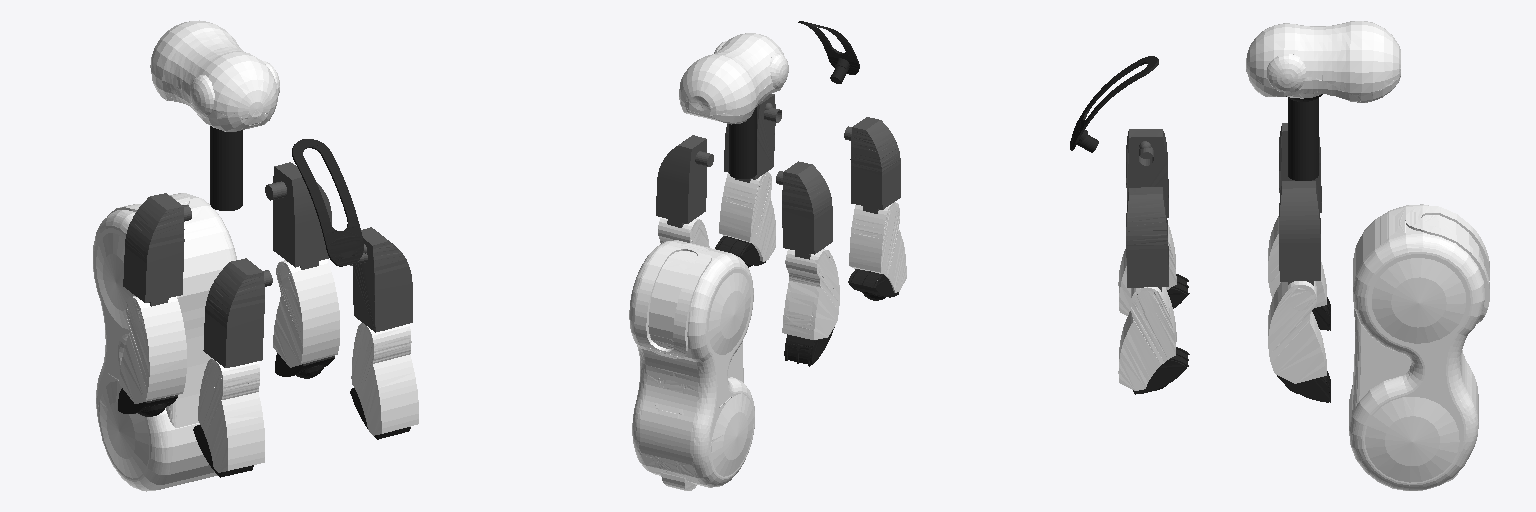
--- Facts derived from the render (not from the file) ---
Views: 3 orthographic renders of the robot side by side, from view 1: azimuth 30°, elevation 25°; view 2: azimuth 150°, elevation 25°; view 3: azimuth 270°, elevation 25°.
Model Aibo with 22 links and 21 joints (17 revolute, 4 fixed), rooted at base_link, posed all joints at 0 but 1 set to mid-range because 0 is outside their limits (tailTilt = 0.565).
Links seen in each view (by area): view 1: base_link, head, LB_down_leg, RB_down_leg, LF_down_leg, RF_down_leg, LF_up_leg_rot_x, LB_up_leg_rot_x, RB_up_leg_rot_x, RF_up_leg_rot_x, tail2, neck_link (+3 smaller); view 2: base_link, head, LF_down_leg, LF_up_leg_rot_x, LB_up_leg_rot_x, RF_up_leg_rot_x, LB_down_leg, RB_down_leg, RB_up_leg_rot_x, neck_link, tail2, LB_paw (+3 smaller); view 3: base_link, head, RF_down_leg, RB_down_leg, RF_up_leg_rot_x, RB_up_leg_rot_x, neck_link, LB_up_leg_rot_x, tail2, LF_down_leg, RB_paw, LB_down_leg (+2 smaller).
Boxes of the visible links, left/top/right/bottom form: base_link: left=93, top=193, right=236, bottom=491; head: left=150, top=20, right=279, bottom=131; LB_down_leg: left=198, top=359, right=264, bottom=472; RB_down_leg: left=351, top=323, right=418, bottom=435; LF_down_leg: left=119, top=296, right=186, bottom=403; RF_down_leg: left=273, top=259, right=339, bottom=367; LF_up_leg_rot_x: left=123, top=193, right=191, bottom=306; LB_up_leg_rot_x: left=203, top=258, right=272, bottom=367; RB_up_leg_rot_x: left=350, top=227, right=412, bottom=332; RF_up_leg_rot_x: left=265, top=162, right=331, bottom=269; tail2: left=292, top=139, right=363, bottom=266; neck_link: left=210, top=126, right=242, bottom=210; base_link: left=629, top=240, right=754, bottom=490; head: left=679, top=33, right=788, bottom=124; LF_down_leg: left=782, top=249, right=839, bottom=339; LF_up_leg_rot_x: left=776, top=161, right=832, bottom=259; LB_up_leg_rot_x: left=844, top=117, right=900, bottom=213; RF_up_leg_rot_x: left=656, top=135, right=713, bottom=227; LB_down_leg: left=849, top=202, right=906, bottom=292; RB_down_leg: left=719, top=172, right=775, bottom=261; RB_up_leg_rot_x: left=724, top=94, right=781, bottom=182; neck_link: left=729, top=107, right=756, bottom=178; tail2: left=798, top=21, right=859, bottom=74; LB_paw: left=848, top=269, right=898, bottom=300; base_link: left=1349, top=204, right=1489, bottom=490; head: left=1246, top=21, right=1400, bottom=102; RF_down_leg: left=1268, top=281, right=1326, bottom=383; RB_down_leg: left=1118, top=287, right=1176, bottom=390; RF_up_leg_rot_x: left=1279, top=181, right=1320, bottom=285; RB_up_leg_rot_x: left=1126, top=187, right=1168, bottom=294; neck_link: left=1288, top=98, right=1318, bottom=180; LB_up_leg_rot_x: left=1126, top=129, right=1168, bottom=217; tail2: left=1070, top=56, right=1158, bottom=150; LF_down_leg: left=1268, top=216, right=1326, bottom=307; RB_paw: left=1133, top=347, right=1189, bottom=394; LB_down_leg: left=1118, top=225, right=1176, bottom=315.
Bounding box of the posed robot: 0.1776 × 0.353 × 0.4194 m (x, y, z).
15 mesh visuals loaded from 15 distinct referenced files (15 binary STL).

URDF robot description (Aibo):
<?xml version="1.0"?>
<robot name="Aibo">

  <!-- WARNING: MASS and INERTIA are not corrects (they are too big!) -->
  <!-- check Aibo.urdf on rds.theconstructism.com -->
  <!-- Weights: 2.2kg (ERS-1000), 1.5kg (ERS-220), 1.65kg () -->

  <link name="base_link" >
    <inertial>
      <!--origin xyz="0.002775 -0.000984 1.226576"/-->
      <mass value="0.613"/> <!-- volume = 0.811633 -->
      <inertia ixx='0.002475011189860075' ixy='0' ixz='0' iyy='0.007506640782378954' iyz='0' izz='0.007113701431115992'/>
      <!--inertia ixx="0.063663" ixy="0.000007" ixz="0.006725" iyy="0.241987" iyz="0.0" izz="0.231997"/--> <!-- volume inertia -->
      <!--inertia ixx="0.00081259581" ixy="8.93481413e-8" ixz="0.00008583803" iyy="0.00308872695" iyz="0.0" izz="0.00296121439"/--> <!-- previous inertia (the one above) divided by volume times mass times scale**2 -->
    </inertial>
    <collision name="geom">
      <!--origin xyz="0 0 0" rpy="0 0 -1.5707"/>
      <geometry>
        <cylinder radius="0.055" length="0.240"/>
      </geometry-->
      <origin xyz="0 0 0" rpy="0 0 -1.5707"/>
      <geometry>
        <mesh filename="meshes/body1.stl" scale="0.13 0.13 0.13" />
      </geometry>
    </collision>
    <visual name="visual">
      <origin xyz="0 0 0" rpy="0 0 -1.5707"/>
      <geometry>
        <mesh filename="meshes/body1.stl" scale="0.13 0.13 0.13" />
      </geometry>
      <material name="white">
        <color rgba="1 1 1 1"/>
      </material>
      <origin xyz="0.0 0 0" rpy="0 1.5707 1.5707"/>
    </visual>
  </link>

  <link name="RF_up_leg_rot_y" > <!-- shoulder -->
    <collision name="geom">
      <origin xyz="0 0 0" rpy="0 0 -1.5707"/>
      <geometry>
        <sphere radius="0.005"/>
      </geometry>
    </collision>
    <visual name="visual">
      <origin xyz="0 0 0" rpy="0 0 -1.5707"/>
      <geometry>
        <sphere radius="0.005"/>
      </geometry>
      <material name="grey">
        <color rgba="0.4 0.4 0.4 1"/>
      </material>
    </visual>
    <inertial>
      <origin xyz="-0.001888 -0.002933 0.008598" rpy="0 0 0"/>
      <mass value="0.05"/>
      <inertia ixx="4.442444469634999e-05" ixy="0.0" ixz="0.0" iyy="8.199685180759998e-05" iyz="0.0" izz="3.9338485833950003e-05" />
    </inertial>
  </link>

  <link name="RF_up_leg_rot_x" > <!-- RF_leg1 -->
    <collision name="geom">
      <!--origin xyz="0 0 0" rpy="0 0 -1.5707"/>
      <geometry>
        <mesh filename="meshes/RFup.stl" scale="0.13 0.13 0.13" />
      </geometry-->
      <origin xyz="-0.05 -0.061 -0.162" rpy="0 0 -1.5707"/>
      <geometry>
        <mesh filename="meshes/RFup.stl" scale="0.13 0.13 0.13" />
      </geometry>
    </collision>
    <visual name="visual">
      <origin xyz="-0.05 -0.061 -0.162" rpy="0 0 -1.5707"/>
      <geometry>
        <mesh filename="meshes/RFup.stl" scale="0.13 0.13 0.13" />
      </geometry>
      <material name="grey"/>
    </visual>
    <inertial>
      <origin xyz="0.000343 -0.001992 -0.011436" rpy="0 0 0"/>
      <mass value="0.073"/>
      <inertia ixx="0.00011969654852187499" ixy="0.0" ixz="0.0" iyy="0.00011794468285297098" iyz="0.0" izz="2.9366620594846e-05" />
    </inertial>
  </link>

  <link name="RF_down_leg" > <!-- RF_leg2 -->
    <collision name="geom">
      <!--origin xyz="0 0 -0.0275" rpy="0 0 0"/>
      <geometry>
        <cylinder radius="0.020" length="0.080"/>
      </geometry-->
      <origin xyz="-0.072 -0.061 -0.085" rpy="0 0 -1.5707"/>
      <geometry>
        <mesh filename="meshes/RFdown.stl" scale="0.13 0.13 0.13" />
      </geometry>
    </collision>
    <visual name="visual">
      <origin xyz="-0.072 -0.061 -0.085" rpy="0 0 -1.5707"/>
      <geometry>
        <mesh filename="meshes/RFdown.stl" scale="0.13 0.13 0.13" />
      </geometry>
      <material name="white"/>
    </visual>
    <inertial>
      <origin xyz="-0.004809 0.000013 0.008158" rpy="0 0 0"/>
      <mass value="0.073"/>
      <inertia ixx="0.00011969654852187499" ixy="0.0" ixz="0.0" iyy="0.00011794468285297098" iyz="0.0" izz="2.9366620594846e-05" />
    </inertial>
  </link>

  <joint type="revolute" name="legRF1">
    <origin xyz="0.05 0.061 0.162" rpy="0 0 0"/>
    <limit effort="1000.0" lower="-2.09" upper="2.36" velocity="0.5"/> 
    <axis xyz="1 0 0"/>
    <parent link="base_link"/>
    <child link="RF_up_leg_rot_y"/>
    <!--dynamics damping="10000.0" friction="10000.0"/--> <!-- this causes problems in pybullet -->
    <safety_controller k_velocity="10" k_position="15" soft_lower_limit="-2.0" soft_upper_limit="0.5" />
  </joint>

  <joint type="revolute" name="legRF2">
    <origin xyz="0 0 0" rpy="0 0 0"/>
    <limit effort="1000.0" lower="-1.58825" upper="0.15708" velocity="0.5"/> 
    <axis xyz="0 -1 0"/>
    <parent link="RF_up_leg_rot_y"/>
    <child link="RF_up_leg_rot_x"/>
    <!--dynamics damping="10000.0" friction="10000.0"/--> <!-- this causes problems in pybullet -->
    <safety_controller k_velocity="10" k_position="15" soft_lower_limit="-2.0" soft_upper_limit="0.5" />
  </joint>

  <joint type="revolute" name="legRF3">
    <origin xyz="0.022 0 -0.077" rpy="-0.51 0 0"/>
    <limit effort="1000.0" lower="-0.506" upper="2.0768" velocity="0.5"/>
    <axis xyz="1 0 0"/>
    <parent link="RF_up_leg_rot_x"/>
    <child link="RF_down_leg"/>
    <!--dynamics damping="10000.0" friction="10000.0"/--> <!-- this causes problems in pybullet -->
    <safety_controller k_velocity="10" k_position="15" soft_lower_limit="-2.0" soft_upper_limit="0.5" />
  </joint>

  <link name="LF_up_leg_rot_y" >
    <collision name="geom">
      <origin xyz="0 0 0" rpy="0 0 0"/>
      <geometry>
        <sphere radius="0.005"/>
      </geometry>
    </collision>
    <visual name="visual">
      <origin xyz="0 0 0" rpy="0 0 0"/>
      <geometry>
        <sphere radius="0.005"/>
      </geometry>
      <material name="grey"></material>
    </visual>
    <inertial>
      <origin xyz="-0.001888 0.002933 0.008598" rpy="0 0 0"/>
      <mass value="0.05"/>
      <inertia ixx="4.07077236743e-05" ixy="0.0" ixz="0.0" iyy="8.407799796175e-05" iyz="0.0" izz="4.5252994171749996e-05" />
    </inertial>
  </link>

  <link name="LF_up_leg_rot_x" >
    <collision name="geom">
      <!--origin xyz="0 0 -0.0275" rpy="0 0 0"/>
      <geometry>
        <cylinder radius="0.020" length="0.075"/>
      </geometry-->
      <origin xyz="0.05 -0.061 -0.162" rpy="0 0 -1.5707"/>
      <geometry>
        <mesh filename="meshes/LFup.stl" scale="0.13 0.13 0.13" />
      </geometry>
    </collision>
    <visual name="visual">
      <origin xyz="0.05 -0.061 -0.162" rpy="0 0 -1.5707"/>
      <geometry>
        <mesh filename="meshes/LFup.stl" scale="0.13 0.13 0.13" />
      </geometry>
      <material name="grey"/>
    </visual>
    <inertial>
      <origin xyz="0.000343 0.001992 -0.011436" rpy="0 0 0"/>
      <mass value="0.073"/>
      <inertia ixx="0.00011566170518423601" ixy="0.0" ixz="0.0" iyy="0.00011431816699501901" iyz="0.0" izz="2.8949038259255004e-05" />
    </inertial>
  </link>

  <link name="LF_down_leg" >
    <collision name="geom">
      <!--origin xyz="0 0 0" rpy="0 0 0"/>
      <geometry>
        <cylinder radius="0.020" length="0.080"/>
      </geometry-->
      <origin xyz="0.072 -0.061 -0.085" rpy="0 0 -1.5707"/>
      <geometry>
        <mesh filename="meshes/LFdown.stl" scale="0.13 0.13 0.13" />
      </geometry>
    </collision>
    <visual name="visual">
      <origin xyz="0.072 -0.061 -0.085" rpy="0 0 -1.5707"/>
      <geometry>
        <mesh filename="meshes/LFdown.stl" scale="0.13 0.13 0.13" />
      </geometry>
      <material name="white"/>
    </visual>
    <inertial>
      <origin xyz="-0.004809 -0.000013 0.008158" rpy="0 0 0"/>
      <mass value="0.073"/>
      <inertia ixx="0.00011969654852187499" ixy="0.0" ixz="0.0" iyy="0.00011794468285297098" iyz="0.0" izz="2.9366620594846e-05" />
    </inertial>
  </link>

  <joint type="revolute" name="legLF1">
    <origin xyz="-0.05 0.061 0.162" rpy="0 0 0"/>
    <limit effort="1000.0" lower="-2.094" upper="2.36" velocity="0.5"/> 
    <axis xyz="1 0 0"/>
    <parent link="base_link"/>
    <child link="LF_up_leg_rot_y"/>
    <!--dynamics damping="10000.0" friction="10000.0"/--> <!-- this causes problems in pybullet -->
    <safety_controller k_velocity="10" k_position="15" soft_lower_limit="-2.0" soft_upper_limit="0.5" />
  </joint>

  <joint type="revolute" name="legLF2">
    <origin xyz="0 0 0" rpy="0 0 0"/>
    <limit effort="1000.0" lower="-0.15708" upper="1.58825" velocity="0.5"/> 
    <axis xyz="0 1 0"/>
    <parent link="LF_up_leg_rot_y"/>
    <child link="LF_up_leg_rot_x"/>
    <!--dynamics damping="10000.0" friction="10000.0"/--> <!-- this causes problems in pybullet -->
    <safety_controller k_velocity="10" k_position="15" soft_lower_limit="-2.0" soft_upper_limit="0.5" />
  </joint>

  <joint type="revolute" name="legLF3">
    <origin xyz="-0.022 0 -0.077" rpy="-0.51 0 0"/>
    <limit effort="1000.0" lower="-0.506" upper="2.0768" velocity="0.5"/>
    <axis xyz="1 0 0"/>
    <parent link="LF_up_leg_rot_x"/>
    <child link="LF_down_leg"/>
    <!--dynamics damping="10000.0" friction="10000.0"/--> <!-- this causes problems in pybullet -->
    <safety_controller k_velocity="10" k_position="15" soft_lower_limit="-2.0" soft_upper_limit="0.5" />
  </joint>

  <link name="RB_up_leg_rot_y" >
    <collision name="geom">
      <origin xyz="0 0 0" rpy="0 0 -1.5707"/>
      <geometry>
        <sphere radius="0.005"/>
      </geometry>
    </collision>
    <visual name="visual">
      <origin xyz="0 0 0" rpy="0 0 -1.5707"/>
      <geometry>
        <sphere radius="0.005"/>
      </geometry>
      <material name="grey"></material>
    </visual>
    <inertial>
      <origin xyz="0.003468 -0.001798 -0.009007" rpy="0 0 0"/>
      <mass value="0.05"/>
      <inertia ixx="2.1327820805349996e-05" ixy="0.0" ixz="0.0" iyy="4.6883250337400005e-05" iyz="0.0" izz="2.6158354222750005e-05" />
    </inertial>
  </link>

  <link name="RB_up_leg_rot_x" >
    <collision name="geom">
      <!--origin xyz="0 0 -0.0275" rpy="0 0 0"/>
      <geometry>
        <cylinder radius="0.020" length="0.075"/>
      </geometry-->
      <origin xyz="-0.05 0.068 -0.162" rpy="0 0 -1.5707"/>
      <geometry>
        <mesh filename="meshes/RBup.stl" scale="0.13 0.13 0.13" />
      </geometry>
    </collision>
    <visual name="visual">
      <origin xyz="-0.05 0.068 -0.162" rpy="0 0 -1.5707"/>
      <geometry>
        <mesh filename="meshes/RBup.stl" scale="0.13 0.13 0.13" />
      </geometry>
      <material name="grey"/>
    </visual>
    <inertial>
      <origin xyz="0.000009 -0.002377 -0.010723" rpy="0 0 0"/>
      <mass value="0.073"/>
      <inertia ixx="0.00011794330961697501" ixy="0.0" ixz="0.0" iyy="0.00011759574351004403" iyz="0.0" izz="2.9943798602131e-05" />
    </inertial>
  </link>

  <link name="RB_down_leg" >
    <collision name="geom">
      <!--origin xyz="0 0 -0.0275" rpy="0 0 0"/>
      <geometry>
        <cylinder radius="0.020" length="0.080"/>
      </geometry-->
      <origin xyz="-0.072 0.0655 -0.081" rpy="0 0 -1.5707"/>
      <geometry>
        <mesh filename="meshes/RBdown.stl" scale="0.13 0.13 0.13" />
      </geometry>
    </collision>
    <visual name="visual">
      <origin xyz="-0.072 0.0655 -0.081" rpy="0 0 -1.5707"/>
      <geometry>
        <mesh filename="meshes/RBdown.stl" scale="0.13 0.13 0.13" />
      </geometry>
      <material name="white"/>
    </visual>
    <inertial>
      <origin xyz="-0.003284 0 -0.006815" rpy="0 0 0"/>
      <mass value="0.073"/>
      <inertia ixx="0.00010389273401253401" ixy="0.0" ixz="0.0" iyy="0.000118542636504766" iyz="0.0" izz="6.864402663235e-05" />
    </inertial>
  </link>

  <joint type="revolute" name="legRB1">
    <origin xyz="0.05 -0.068 0.162" rpy="0 0 0"/>
    <limit effort="1000.0" lower="-2.3387" upper="2.094" velocity="0.5"/>
    <axis xyz="-1 0 0"/>
    <parent link="base_link"/>
    <child link="RB_up_leg_rot_y"/>
    <!--dynamics damping="10000.0" friction="10000.0"/--> <!-- this causes problems in pybullet -->
    <safety_controller k_velocity="10" k_position="15" soft_lower_limit="-2.0" soft_upper_limit="0.5" />
  </joint>

  <joint type="revolute" name="legRB2">
    <origin xyz="0 0 0" rpy="0 0 0"/>
    <limit effort="1000.0" lower="-0.15708" upper="1.58825" velocity="0.5"/> 
    <axis xyz="0 -1 0"/>
    <parent link="RB_up_leg_rot_y"/>
    <child link="RB_up_leg_rot_x"/>
    <!--dynamics damping="10000.0" friction="10000.0"/--> <!-- this causes problems in pybullet -->
    <safety_controller k_velocity="10" k_position="15" soft_lower_limit="-2.0" soft_upper_limit="0.5" />
  </joint>

  <joint type="revolute" name="legRB3">
    <limit effort="1000.0" lower="-0.506" upper="2.0768" velocity="0.5"/>
    <axis xyz="-1 0 0"/>
    <origin xyz="0.022 0 -0.079" rpy="0.51 0 0"/>
    <parent link="RB_up_leg_rot_x"/>
    <child link="RB_down_leg"/>
    <!--dynamics damping="10000.0" friction="10000.0"/--> <!-- this causes problems in pybullet -->
    <safety_controller k_velocity="10" k_position="15" soft_lower_limit="-2.0" soft_upper_limit="0.5" />
  </joint>

  <link name="LB_up_leg_rot_y" >
    <collision name="geom">
      <!--geometry>
        <sphere radius="0.005"/>
      </geometry-->
      <origin xyz="0 0 0" rpy="0 0 -1.5707"/>
      <geometry>
        <sphere radius="0.005"/>
      </geometry>
    </collision>
    <visual name="visual">
      <origin xyz="0 0 0" rpy="0 0 -1.5707"/>
      <geometry>
        <sphere radius="0.005"/>
      </geometry>
      <material name="grey"></material>
    </visual>
    <inertial>
      <origin xyz="0.003468 0.001798 -0.009007" rpy="0 0 0"/>
      <mass value="0.05"/>
      <inertia ixx="2.2119548359949997e-05" ixy="0.0" ixz="0.0" iyy="4.706856616795e-05" iyz="0.0" izz="2.55455926252e-05" />
    </inertial>
  </link>

  <link name="LB_up_leg_rot_x" >
    <collision name="geom">
      <!--origin xyz="0 0 -0.0275" rpy="0 0 0"/>
      <geometry>
        <cylinder radius="0.020" length="0.075"/>
      </geometry-->
      <origin xyz="0.05 0.068 -0.162" rpy="0 0 -1.5707"/>
      <geometry>
        <mesh filename="meshes/LBup.stl" scale="0.13 0.13 0.13" />
      </geometry>
    </collision> 
    <visual name="visual">
      <origin xyz="0.05 0.068 -0.162" rpy="0 0 -1.5707"/>
      <geometry>
        <mesh filename="meshes/LBup.stl" scale="0.13 0.13 0.13" />
      </geometry>
      <material name="grey"/>
    </visual>
    <inertial>
      <origin xyz="0.000009 0.002377 -0.010723" rpy="0 0 0"/>
      <mass value="0.073"/>
      <inertia  ixx="0.00011560491842459497" ixy="0.0" ixz="0.0" iyy="0.00011546106608284297" iyz="0.0" izz="3.0147512367309998e-05" />
    </inertial>
  </link>

  <link name="LB_down_leg" >
    <collision name="geom">
      <!--origin xyz="0 0 -0.0275" rpy="0 0 0"/>
      <geometry>
        <cylinder radius="0.020" length="0.080"/>
      </geometry-->
      <origin xyz="0.072 0.0655 -0.081" rpy="0 0 -1.5707"/>
      <geometry>
        <mesh filename="meshes/LBdown.stl" scale="0.13 0.13 0.13" />
      </geometry>
    </collision>
    <visual name="visual">
      <origin xyz="0.072 0.0655 -0.081" rpy="0 0 -1.5707"/>
      <geometry>
        <mesh filename="meshes/LBdown.stl" scale="0.13 0.13 0.13" />
      </geometry>
      <material name="white"/>
    </visual>
    <inertial>
      <origin xyz="-0.003284 0 -0.006815" rpy="0 0 0"/>
      <mass value="0.073"/>
      <inertia ixx="0.00010389273401253401" ixy="0.0" ixz="0.0" iyy="0.000118542636504766" iyz="0.0" izz="6.864402663235e-05" />
    </inertial>
  </link>

  <joint type="revolute" name="legLB1">
    <origin xyz="-0.05 -0.068 0.162" rpy="0 0 0"/>
    <limit effort="1000.0" lower="-2.094" upper="2.3387" velocity="0.5"/> 
    <axis xyz="-1 0 0"/>
    <parent link="base_link"/>
    <child link="LB_up_leg_rot_y"/>
    <!--dynamics damping="10000.0" friction="10000.0"/--> <!-- this causes problems in pybullet -->
    <safety_controller k_velocity="10" k_position="15" soft_lower_limit="-2.0" soft_upper_limit="0.5" />
  </joint> 

  <joint type="revolute" name="legLB2">
    <origin xyz="0 0 0" rpy="0 0 0"/>
    <limit effort="1000.0" lower="-0.15708" upper="1.58825" velocity="0.5"/>
    <axis xyz="0 1 0"/>
    <parent link="LB_up_leg_rot_y"/>
    <child link="LB_up_leg_rot_x"/>
    <!--dynamics damping="10000.0" friction="10000.0"/--> <!-- this causes problems in pybullet -->
    <safety_controller k_velocity="10" k_position="15" soft_lower_limit="-2.0" soft_upper_limit="0.5" />
  </joint>

  <joint type="revolute" name="legLB3">
    <limit effort="1000.0" lower="-0.506" upper="2.0768" velocity="0.5"/>
    <axis xyz="-1 0 0"/>
    <origin xyz="-0.022 0 -0.079" rpy="0.51 0 0"/>
    <parent link="LB_up_leg_rot_x"/>
    <child link="LB_down_leg"/>
    <!--dynamics damping="10000.0" friction="10000.0"/--> <!-- this causes problems in pybullet -->
    <safety_controller k_velocity="10" k_position="15" soft_lower_limit="-2.0" soft_upper_limit="0.5" />
  </joint>

  <link name="neck_link" >
    <collision name="geom">
      <origin xyz="0 0 0.04" rpy="0 0 0"/>
      <geometry>
        <cylinder radius="0.013" length="0.080"/>
      </geometry>
      <surface>
        <friction>
          <ode mu='1.000000' mu2='1.000000'/>
        </friction>
      </surface>
    </collision>
    <visual name="visual">
      <origin xyz="0 0 0.04" rpy="0 0 0"/>
      <geometry>
        <cylinder radius="0.013" length="0.090"/>
      </geometry>
      <material name="black">
        <color rgba="0.2 0.2 0.2 1"/>
      </material>
    </visual>
    <inertial>
      <origin xyz="-0.000341 -0.000000 -0.008011" rpy="0 0 0"/>
      <mass value="0.015"/>
      <inertia ixx="1.97e-06" ixy="0" ixz="0" iyy="1.97e-06" iyz="0" izz="1.688e-06"/>
    </inertial>
  </link>

  <joint type="revolute" name="neck">
    <origin xyz="0 0.065 0.164" rpy="0 0 0"/>
    <limit effort="1000.0" lower="-1.3788" upper="0.0349" velocity="0.5"/> 
    <axis xyz="1 0 0"/>
    <parent link="base_link"/>
    <child link="neck_link"/>
    <!--dynamics damping="10000.0" friction="10000.0"/--> <!-- this causes problems in pybullet -->
    <safety_controller k_velocity="10" k_position="15" soft_lower_limit="-2.0" soft_upper_limit="0.5" />
  </joint>

  <link name="pan" >
    <collision name="geom">
      <origin xyz="0 0 0" rpy="0 0 0"/>
      <geometry>
        <sphere radius="0.025"/>
      </geometry>
      <surface>
        <friction>
          <ode mu='1.000000' mu2='1.000000'/>
        </friction>
      </surface>
    </collision>
    <visual name="visual">
      <origin xyz="0 0 0" rpy="0 0 0"/>
      <geometry>
        <sphere radius="0.025"/>
      </geometry>
      <material name="black"/>
    </visual>
    <inertial>
      <mass value="0.01"/>
      <inertia ixx="8.72e-06" ixy="0" ixz="0" iyy="8.72e-06" iyz="0" izz="8.72e-06"/>
    </inertial>
  </link>

  <joint type="revolute" name="headPan">
    <origin xyz="0 0 0.09" rpy="0 0 0"/>
    <limit effort="1000.0" lower="1.5882" upper="-1.5882" velocity="0.5"/> 
    <axis xyz="0 0 1"/>
    <parent link="neck_link"/>
    <child link="pan"/>
    <!--dynamics damping="10000.0" friction="10000.0"/--> <!-- this causes problems in pybullet -->
    <safety_controller k_velocity="10" k_position="15" soft_lower_limit="-2.0" soft_upper_limit="0.5" />
  </joint>

  <link name="head" >
    <collision name="geom">
      <!--origin xyz="0 0.025 0" rpy="0 0 0"/>
      <geometry>
        <mesh filename="meshes/head.stl" scale="0.13 0.13 0.13" />
      </geometry-->
      <origin xyz="0 -0.094 -0.235" rpy="0 0 -1.5707"/>
      <geometry>
        <mesh filename="meshes/head.stl" scale="0.13 0.13 0.13" />
      </geometry>
      <surface>
        <friction>
          <ode mu='1.000000' mu2='1.000000'/>
        </friction>
      </surface>
    </collision>
    <visual name="visual">
      <origin xyz="0 -0.094 -0.235" rpy="0 0 -1.5707"/>
      <geometry>
        <mesh filename="meshes/head.stl" scale="0.13 0.13 0.13" />
      </geometry>
      <material name="white"/>
    </visual>
    <inertial>
      <origin xyz="0.01 -0.000001 0" rpy="0 -0.44506 0"/>
      <mass value="0.19"/>
      <inertia  ixx="0.00035622463752244" ixy="0.0" ixz="0.0" iyy="0.0006802505025500499" iyz="0.0" izz="0.0006800426839130501" />
    </inertial>
  </link>

  <joint type="revolute" name="headTilt">
    <origin xyz="0 0 0" rpy="0 0 0"/>
    <limit effort="1000.0" lower="-0.28" upper="0.77" velocity="0.5"/> 
    <axis xyz="1 0 0"/>
    <parent link="pan"/>
    <child link="head"/>
    <!--dynamics damping="10000.0" friction="10000.0"/--> <!-- this causes problems in pybullet -->
    <safety_controller k_velocity="10" k_position="15" soft_lower_limit="-2.0" soft_upper_limit="0.5" />
  </joint>

  <link name="RF_paw" >
    <collision name="geom">
      <!--geometry>
        <sphere radius="0.015"/>
      </geometry-->
      <origin xyz="-0.071 -0.062 -0.083" rpy="0 0 -1.5707"/>
      <geometry>
        <mesh filename="meshes/RFpaw.stl" scale="0.13 0.13 0.13" />
      </geometry>
    </collision>
    <visual name="visual">
      <origin xyz="-0.071 -0.062 -0.083" rpy="0 0 -1.5707"/>
      <geometry>
        <mesh filename="meshes/RFpaw.stl" scale="0.13 0.13 0.13" />
      </geometry>
      <material name="black"></material>
    </visual>
    <inertial>
      <origin xyz="-0.000193 0 -0.001688" rpy="0 0 0"/>
      <mass value="0.01"/>
      <inertia ixx="4.888e-05" ixy="0" ixz="0" iyy="4.888e-05" iyz="0" izz="4.888e-05"/>
    </inertial>
  </link>

  <joint type="fixed" name="RF_paw_joint">
    <origin xyz="0 0 0" rpy="0 0 0"/>
    <parent link="RF_down_leg"/>
    <child link="RF_paw"/>
    <!--dynamics damping="10000.0" friction="10000.0"/--> <!-- this causes problems in pybullet -->
    <safety_controller k_velocity="10" k_position="15" soft_lower_limit="-2.0" soft_upper_limit="0.5" />
  </joint>

  <link name="LF_paw" >
    <collision name="geom">
      <!--geometry>
        <sphere radius="0.015"/>
      </geometry-->
      <origin xyz="0.071 -0.062 -0.083" rpy="0 0 -1.5707"/>
      <geometry>
        <mesh filename="meshes/LFpaw.stl" scale="0.13 0.13 0.13" />
      </geometry>
    </collision>
    <visual name="visual">
      <origin xyz="0.071 -0.062 -0.083" rpy="0 0 -1.5707"/>
      <geometry>
        <mesh filename="meshes/LFpaw.stl" scale="0.13 0.13 0.13" />
      </geometry>
      <material name="black"></material>
    </visual>
    <inertial>
      <origin xyz="-0.000193 0 -0.001688" rpy="0 0 0"/>
      <mass value="0.01"/>
      <inertia ixx="4.888e-05" ixy="0" ixz="0" iyy="4.888e-05" iyz="0" izz="4.888e-05"/>
    </inertial>
  </link>

  <joint type="fixed" name="LF_paw_joint">
    <origin xyz="0 0 0" rpy="0 0 0"/>
    <parent link="LF_down_leg"/>
    <child link="LF_paw"/>
    <!--dynamics damping="10000.0" friction="10000.0"/--> <!-- this causes problems in pybullet -->
    <safety_controller k_velocity="10" k_position="15" soft_lower_limit="-2.0" soft_upper_limit="0.5" />
  </joint>

  <link name="RB_paw" >
    <collision name="geom">
      <!--geometry>
        <sphere radius="0.015"/>
      </geometry-->
      <origin xyz="-0.071 0.066 -0.083" rpy="0 0 -1.5707"/>
      <geometry>
        <mesh filename="meshes/RBpaw.stl" scale="0.13 0.13 0.13" />
      </geometry>
    </collision>
    <visual name="visual">
      <origin xyz="-0.071 0.066 -0.083" rpy="0 0 -1.5707"/>
      <geometry>
        <mesh filename="meshes/RBpaw.stl" scale="0.13 0.13 0.13" />
      </geometry>
      <material name="black"></material>
    </visual>
    <inertial>
      <origin xyz="-0.000193 0 -0.001688" rpy="0 0 0"/>
      <mass value="0.01"/>
      <inertia ixx="4.888e-05" ixy="0" ixz="0" iyy="4.888e-05" iyz="0" izz="4.888e-05"/>
    </inertial>
  </link>

  <joint type="fixed" name="RB_paw_joint">
    <origin xyz="0 0 0" rpy="0 0 0"/>
    <parent link="RB_down_leg"/>
    <child link="RB_paw"/>
    <!--dynamics damping="10000.0" friction="10000.0"/--> <!-- this causes problems in pybullet -->
    <safety_controller k_velocity="10" k_position="15" soft_lower_limit="-2.0" soft_upper_limit="0.5" />
  </joint>
  <link name="LB_paw" >
    <collision name="geom">
      <!--geometry>
        <sphere radius="0.015"/>
      </geometry-->
      <origin xyz="0.071 0.066 -0.083" rpy="0 0 -1.5707"/>
      <geometry>
        <mesh filename="meshes/LBpaw.stl" scale="0.13 0.13 0.13" />
      </geometry>
    </collision>
    <visual name="visual">
      <origin xyz="0.071 0.066 -0.083" rpy="0 0 -1.5707"/>
      <geometry>
        <mesh filename="meshes/LBpaw.stl" scale="0.13 0.13 0.13" />
      </geometry>
      <material name="black"></material>
    </visual>
    <inertial>
      <origin xyz="-0.000193 0 -0.001688" rpy="0 0 0"/>
      <mass value="0.01"/>
      <inertia ixx="4.888e-05" ixy="0" ixz="0" iyy="4.888e-05" iyz="0" izz="4.888e-05"/>
    </inertial>
  </link>

  <joint type="fixed" name="LB_paw_joint">
    <origin xyz="0 0 0" rpy="0 0 0"/>
    <parent link="LB_down_leg"/>
    <child link="LB_paw"/>
    <!--dynamics damping="10000.0" friction="10000.0"/--> <!-- this causes problems in pybullet -->
    <safety_controller k_velocity="10" k_position="15" soft_lower_limit="-2.0" soft_upper_limit="0.5" />
  </joint>

  <link name="tail1" >
    <collision name="geom">
      <!--geometry>
        <sphere radius="0.015"/>
      </geometry-->
      <origin xyz="0 0 0.01" rpy="0 0 -1.5707"/>
      <geometry>
        <cylinder radius="0.006" length="0.020"/>
      </geometry>
    </collision>
    <visual name="visual">
      <origin xyz="0 0 0.01" rpy="0 0 -1.5707"/>
      <geometry>
        <cylinder radius="0.006" length="0.020"/>
      </geometry>
      <material name="black"></material>
    </visual>
    <inertial>
      <mass value="0.0001"/>
      <inertia ixx="6.126e-10" ixy="0" ixz="0" iyy="3.64e-09" iyz="0" izz="3.64e-09"/>
    </inertial>
  </link>

  <joint type="revolute" name="tailTilt">
    <origin xyz="0 -0.11 0.185" rpy="1.5707 0 0"/>
    <parent link="base_link"/>
    <child link="tail1"/>
    <axis xyz="-1 0 0"/>
    <limit effort="1000.0" lower="0.03" upper="1.1" velocity="0.5"/> 
    <!--dynamics damping="10000.0" friction="10000.0"/--> <!-- this causes problems in pybullet -->
    <safety_controller k_velocity="10" k_position="15" soft_lower_limit="-2.0" soft_upper_limit="0.5" />
  </joint>

  <link name="tail2" >
    <collision name="geom">
      <!--geometry>
        <sphere radius="0.015"/>
      </geometry-->
      <origin xyz="0 -0.155 -0.12" rpy="0 -1.5707 -1.5707"/>
      <geometry>
        <mesh filename="meshes/tail.stl" scale="0.13 0.13 0.13" />
      </geometry>
    </collision>
    <visual name="visual">
      <origin xyz="0 -0.155 -0.12" rpy="0 -1.5707 -1.5707"/>
      <geometry>
        <mesh filename="meshes/tail.stl" scale="0.13 0.13 0.13" />
      </geometry>
      <material name="black"></material>
    </visual>
    <inertial>
      <origin xyz="-0.008924 0.000002 0.006188" rpy="0 0 0"/>
      <mass value="0.001"/>
      <inertia  ixx="1.323786971875e-07" ixy="0.0" ixz="0.0" iyy="1.454691640315e-07" iyz="0.0" izz="3.9588087513400005e-08" />
    </inertial>
  </link>

  <joint type="revolute" name="tailPan">
    <origin xyz="0 0 0" rpy="0 0 0"/>
    <parent link="tail1"/>
    <child link="tail2"/>
    <axis xyz="0 0 -1"/>
    <limit effort="1000.0" lower="-1.03" upper="1.03" velocity="0.5"/> 
    <!--dynamics damping="10000.0" friction="10000.0"/--> <!-- this causes problems in pybullet -->
    <safety_controller k_velocity="10" k_position="15" soft_lower_limit="-2.0" soft_upper_limit="0.5" />
  </joint>

</robot>
